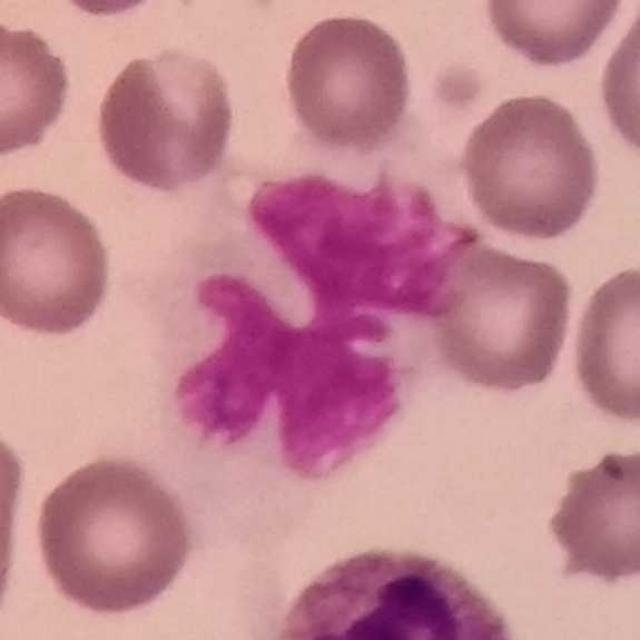mono: (140, 116, 471, 506)
